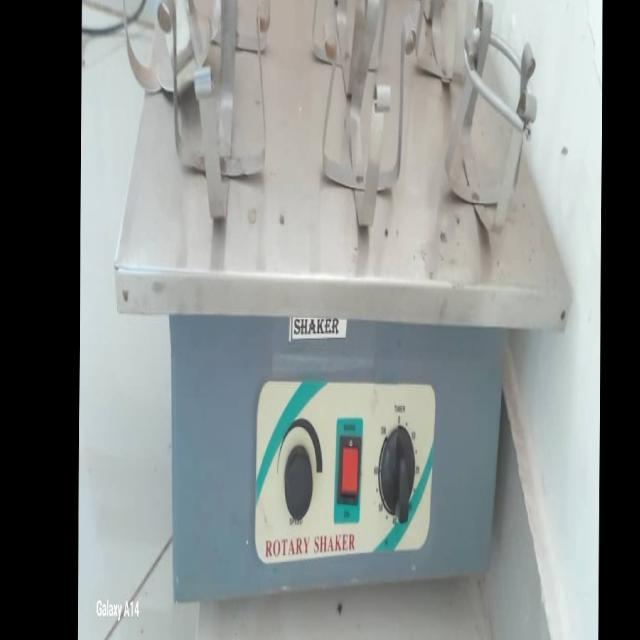Rotary Shaker: (109, 0, 577, 621)
